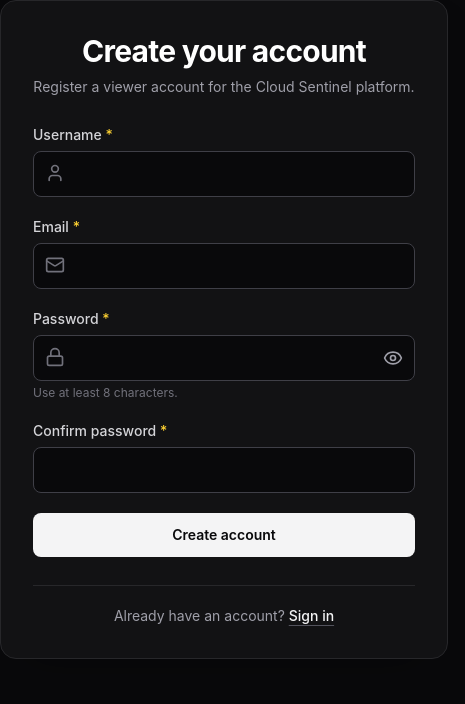
RegisterForm › validates email format and the backend password minimum
Type "sentinel-viewer" into the field labelled "Username *".
click(224, 174); type("sentinel-viewer")  # box [33,151,415,197]
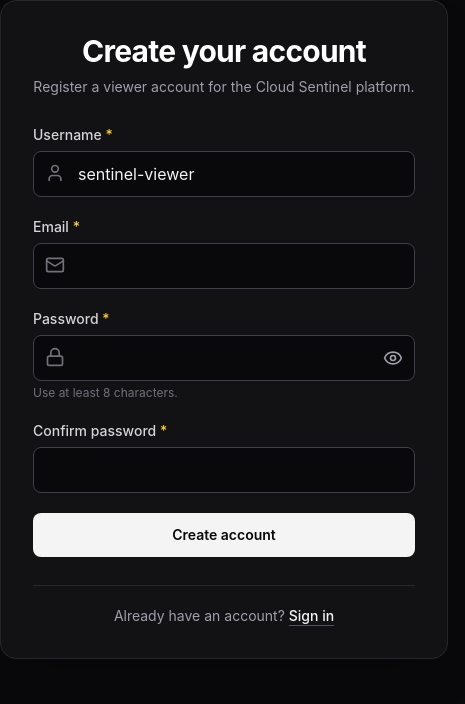
Type "sentinel@example.test" into the field labelled "Email *".
click(224, 266); type("sentinel@example.test")  # box [33,243,415,289]
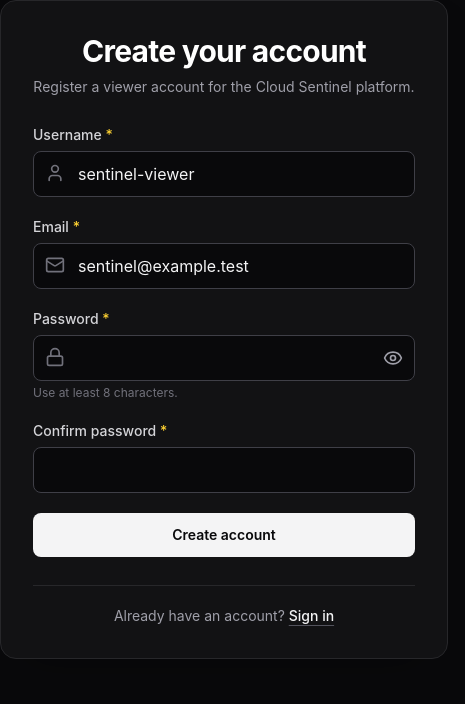
Type "short" into the password field labelled "Password *".
click(224, 358); type("short")  # box [33,335,415,381]
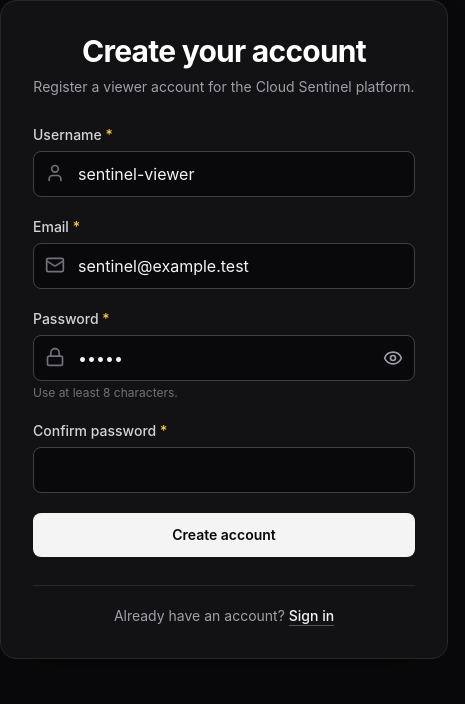
Type "short" into the password field labelled "Confirm password *".
click(224, 470); type("short")  # box [33,447,415,493]
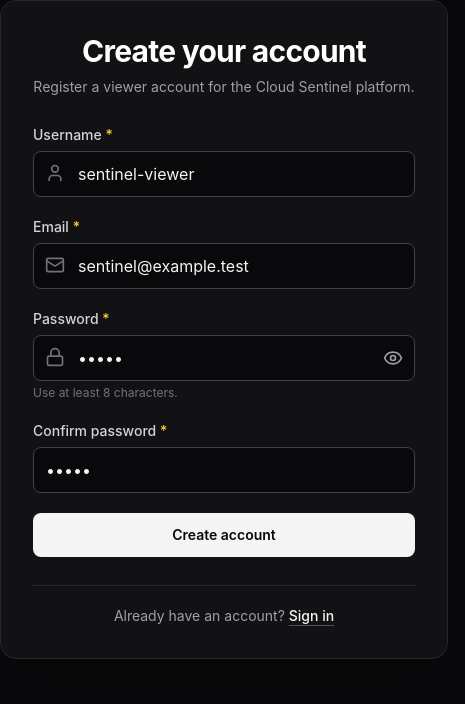
Replace the text in the field labelled "Email *" with "not-an-email" at (224, 266), box [33,243,415,289]
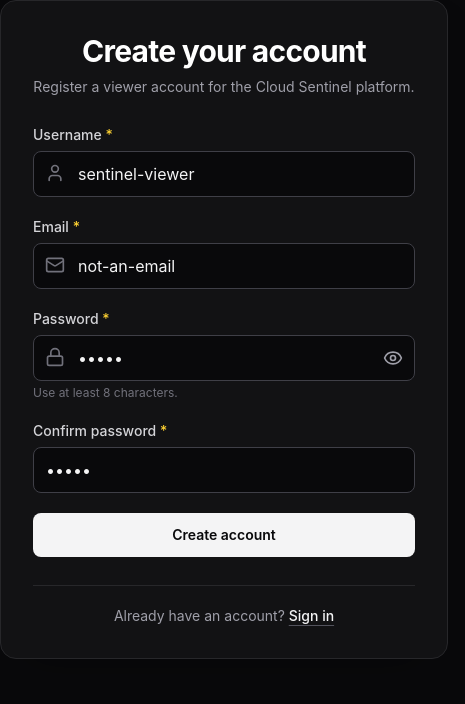
Click the button "Create account".
click(224, 535)  # box [33,513,415,557]
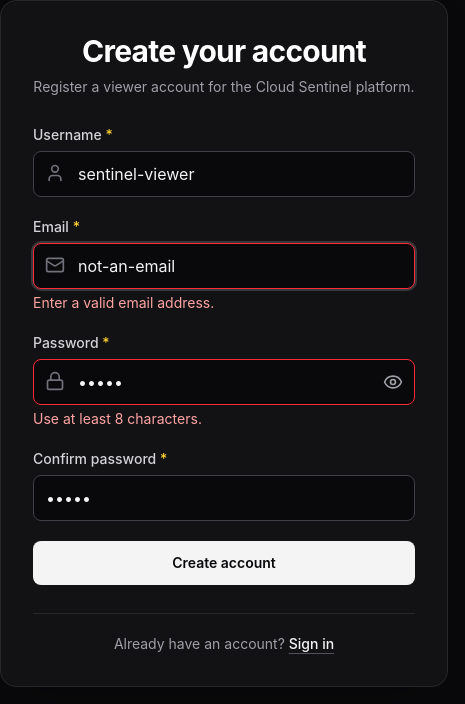
Expected: the text "Use at least 8 characters." is shown, [33,410,202,427]
Now the text "Enter a valid email address." is shown, box [33,294,214,311]
